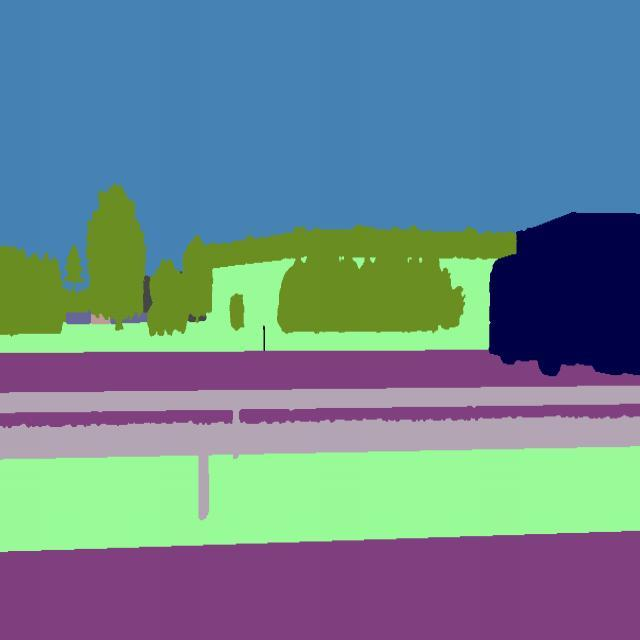safe: (487, 210, 640, 382)
